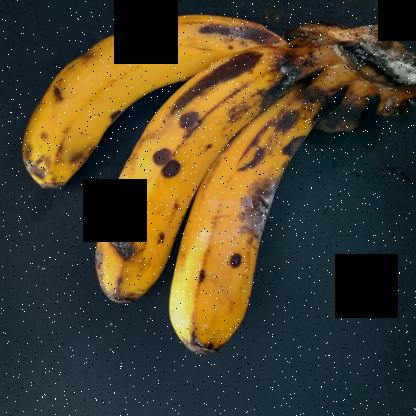overripe: (72, 64, 286, 328), (156, 79, 345, 364), (4, 7, 283, 195)
rotten: (228, 184, 301, 259)
